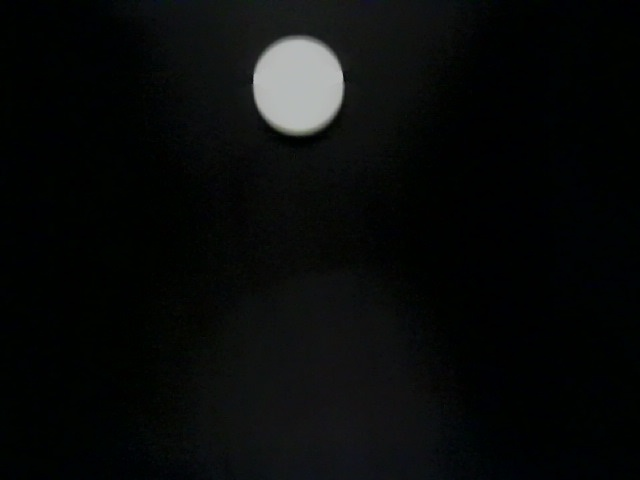YHLJ: (363, 416, 426, 480)
